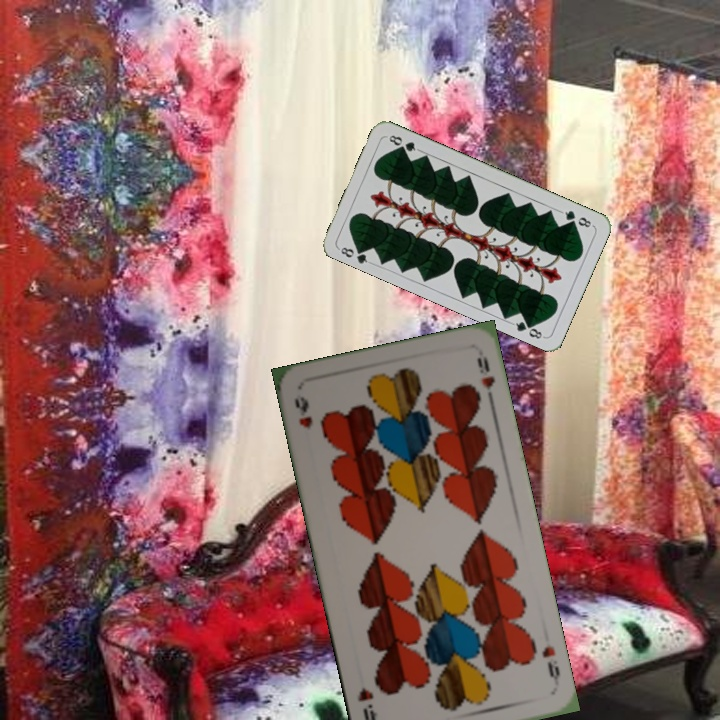G8: (335, 242, 374, 266), (557, 206, 595, 230)
H9: (538, 642, 563, 688), (290, 392, 315, 432)
